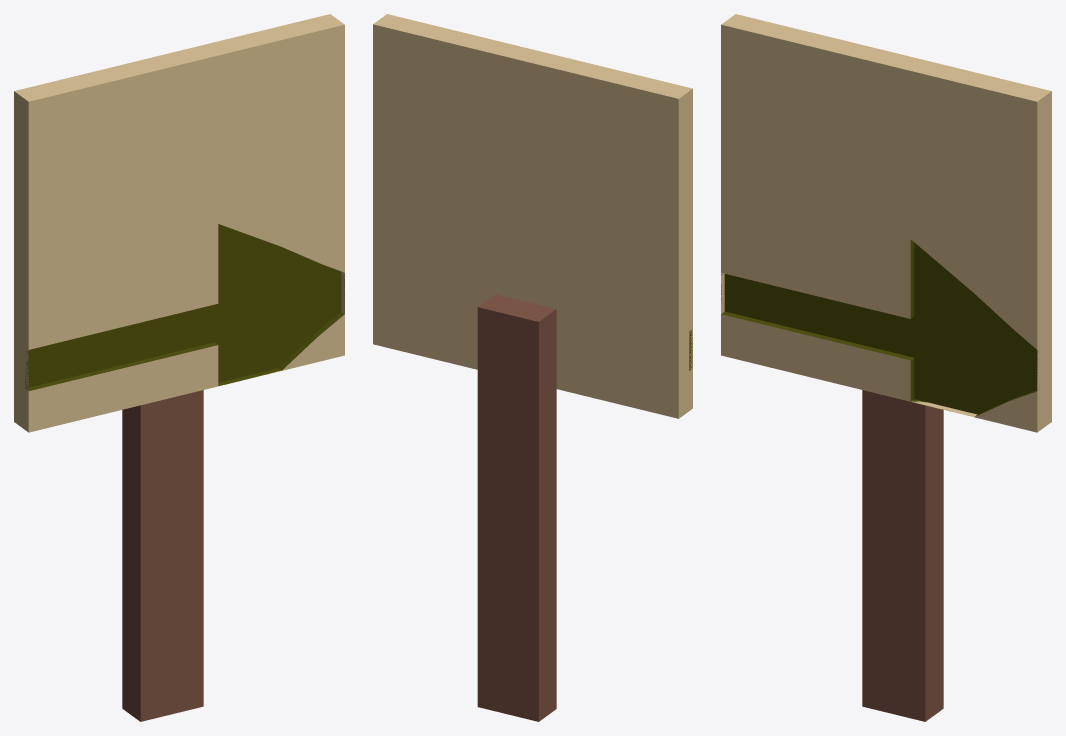
Rendered from SkiltH.FBX.
3 views of the same model, side by side, from view 1: azimuth 30°, elevation 25°; view 2: azimuth 150°, elevation 25°; view 3: azimuth 330°, elevation 25° (orthographic). The views are drawn at different scales.
Parts seen in each view (by area): view 1: Skilth; view 2: Skilth; view 3: Skilth.
Boxes of the visible parts, bbox=[...] form: Skilth: bbox=[14, 14, 344, 721]; Skilth: bbox=[373, 14, 692, 721]; Skilth: bbox=[721, 14, 1051, 721].
Bounding box in the file's own units: 1 × 2 × 0.18.
